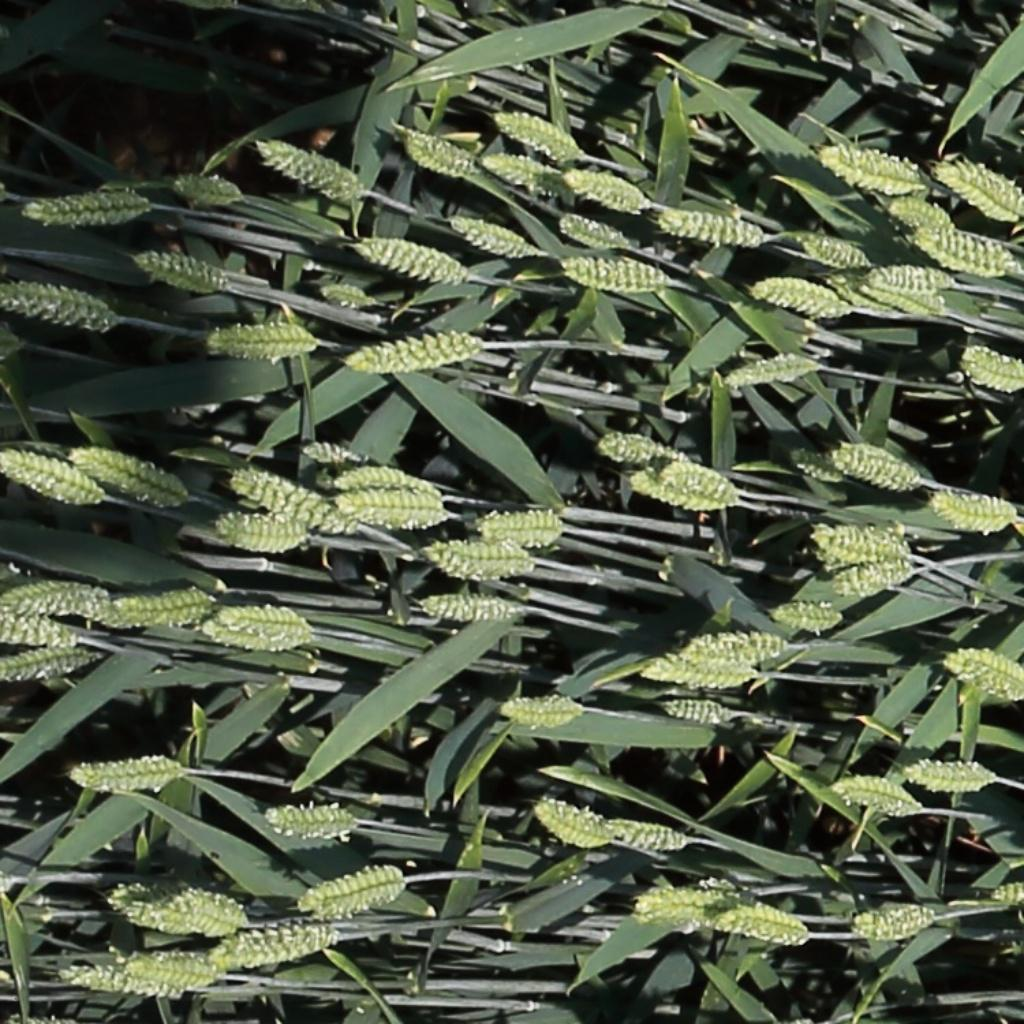0-0: (230, 468, 349, 532), (209, 918, 339, 971), (347, 327, 484, 376), (5, 282, 116, 341), (905, 223, 1021, 279), (703, 894, 814, 952), (297, 864, 406, 922), (253, 137, 360, 196), (820, 146, 937, 197), (935, 159, 1023, 225), (0, 579, 116, 628), (328, 487, 456, 531), (17, 189, 158, 228), (419, 536, 537, 582), (630, 463, 738, 513), (107, 584, 218, 630), (934, 646, 1024, 702), (0, 451, 98, 502), (70, 450, 181, 495), (820, 772, 922, 820), (524, 797, 614, 851), (554, 251, 667, 294), (150, 890, 251, 938), (749, 276, 854, 322), (61, 961, 181, 1001), (67, 753, 184, 794), (357, 237, 465, 281), (103, 885, 185, 941), (924, 488, 1017, 537), (208, 321, 319, 362), (260, 802, 361, 846), (830, 446, 921, 494), (638, 656, 758, 691), (128, 249, 227, 291), (200, 616, 312, 653), (811, 523, 914, 563), (209, 512, 306, 554), (412, 590, 524, 626), (337, 462, 443, 500), (491, 109, 578, 155), (121, 950, 225, 988), (853, 899, 935, 946), (677, 628, 786, 663), (633, 888, 731, 926), (477, 151, 570, 191), (585, 431, 691, 466), (603, 818, 692, 859), (213, 603, 311, 640), (447, 214, 533, 256), (861, 279, 945, 322), (561, 166, 648, 207), (476, 509, 567, 548), (656, 208, 763, 241), (957, 343, 1023, 396), (499, 695, 586, 735), (859, 262, 958, 297), (902, 757, 994, 794), (795, 230, 876, 271), (401, 131, 472, 174), (653, 464, 735, 501), (0, 611, 79, 648), (167, 172, 244, 209), (1, 648, 92, 679), (830, 562, 912, 596), (554, 211, 628, 247), (723, 357, 816, 385), (768, 602, 843, 636), (887, 196, 955, 233), (951, 652, 1024, 685), (300, 437, 373, 468), (787, 446, 847, 483), (661, 696, 731, 726), (318, 282, 372, 304)
